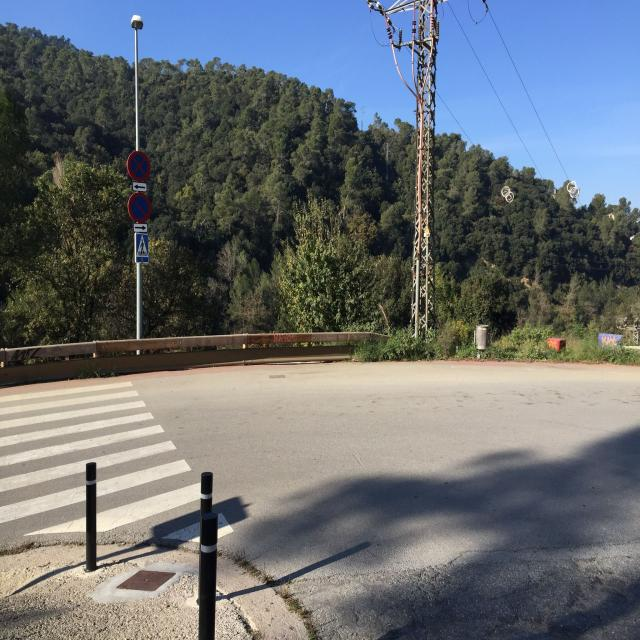forb_stopping: (127, 191, 152, 224)
forb_waiting: (127, 151, 151, 182)
